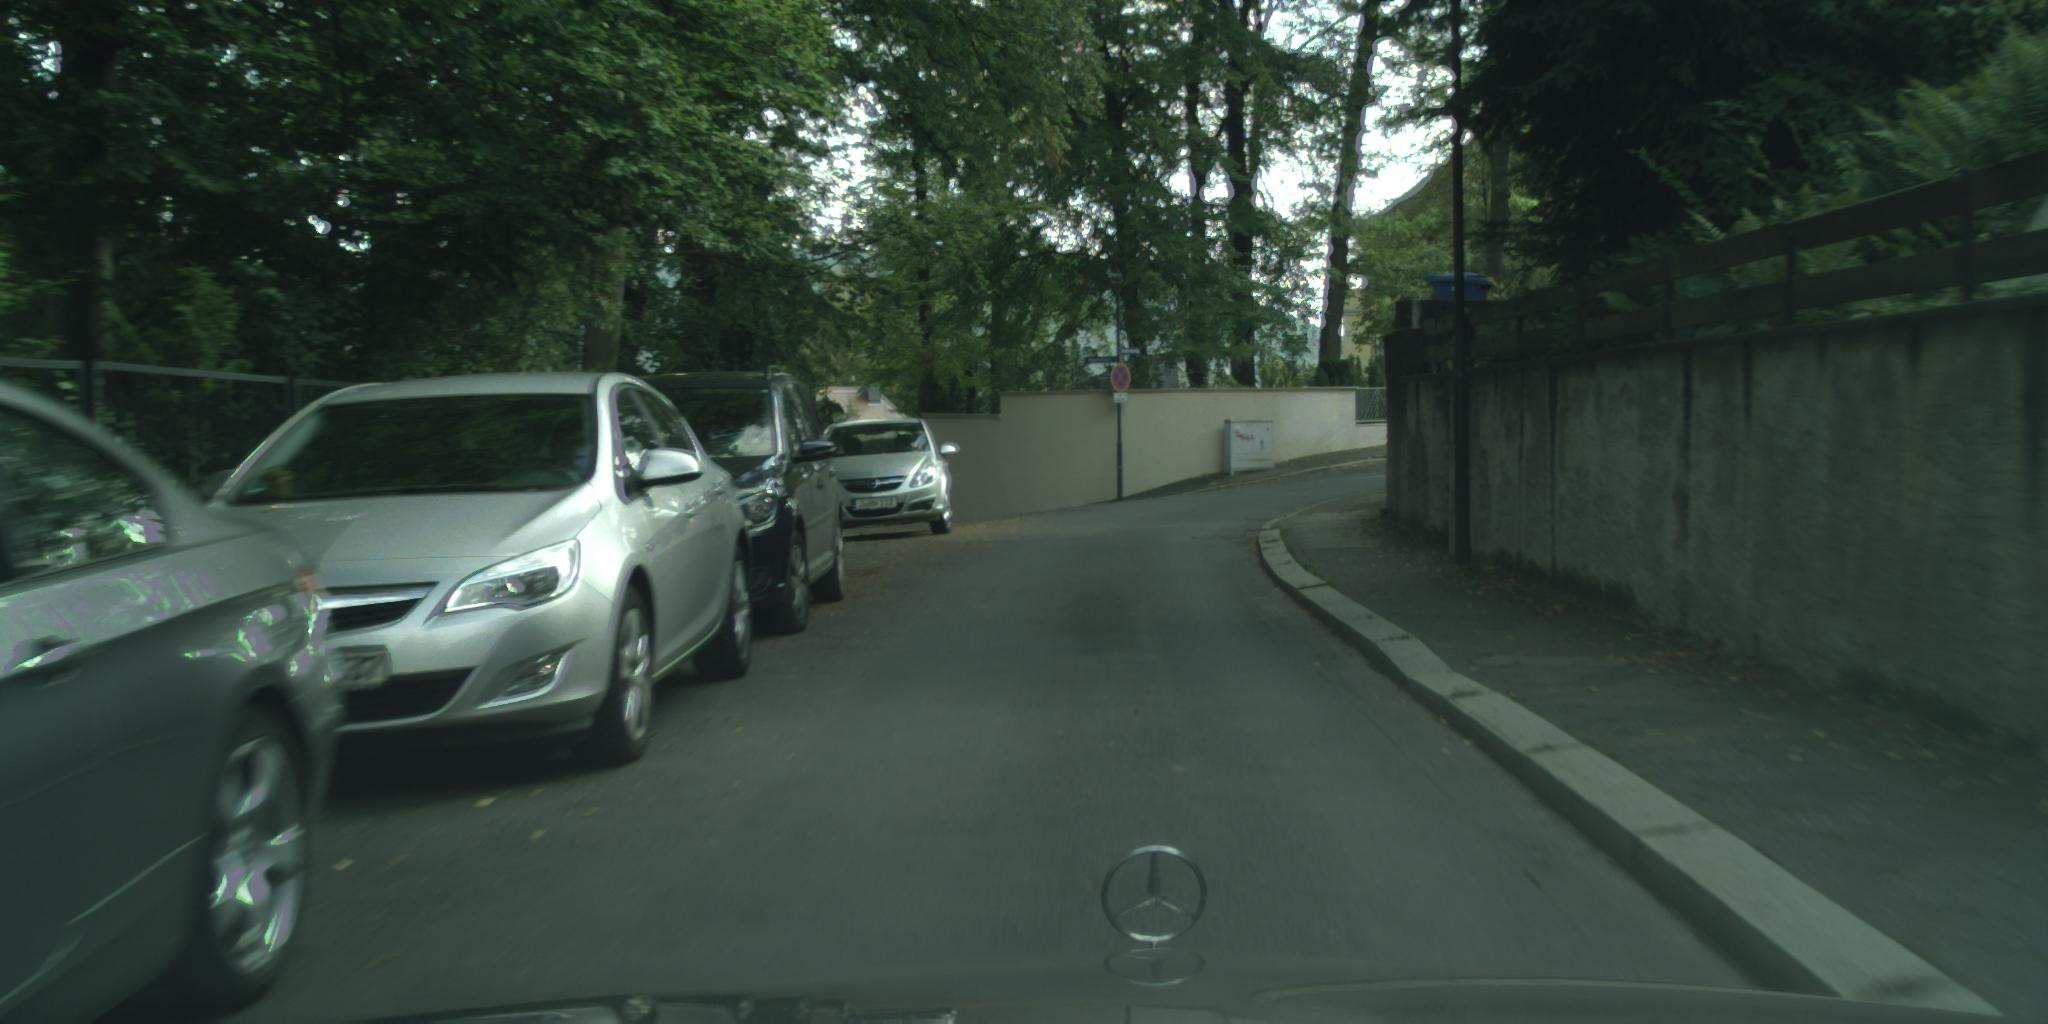car: (193, 372, 755, 769), (1, 379, 346, 1024), (620, 368, 848, 636), (806, 419, 960, 536)
